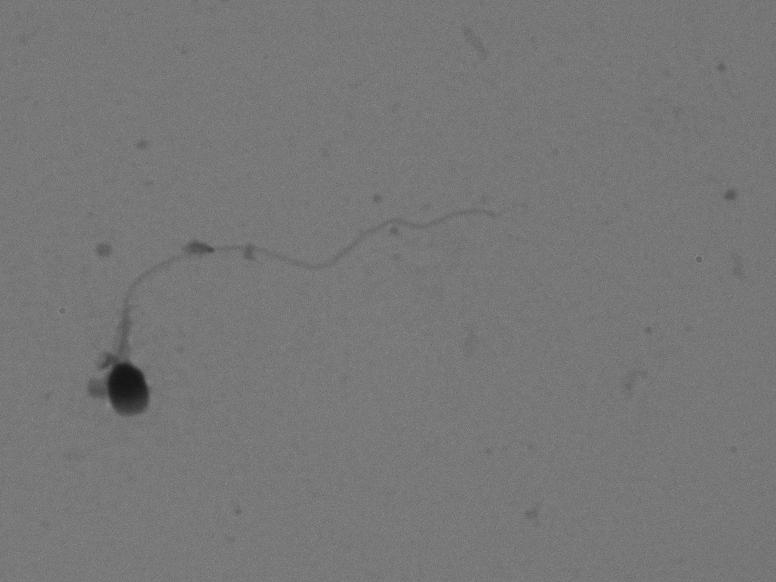Abnormal: (69, 190, 544, 424)
